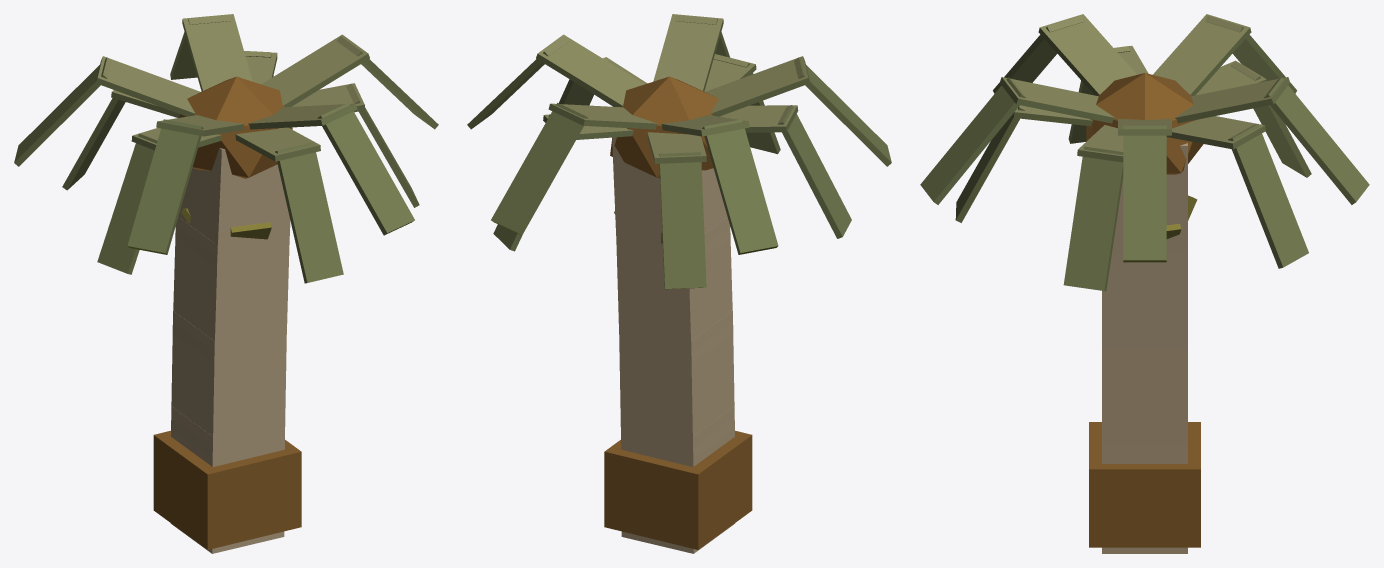
File: SM_Palmera_v2_LOD0.fbx
3 renders of one model, left to right at view 1: azimuth 30°, elevation 25°; view 2: azimuth 150°, elevation 25°; view 3: azimuth 270°, elevation 25°, orthographic. The views are drawn at different scales.
Parts seen in each view (by area): view 1: SM_urbano_v2_LOD0; view 2: SM_urbano_v2_LOD0; view 3: SM_urbano_v2_LOD0.
Boxes of the visible parts, x1,y1,x2,y2 form: SM_urbano_v2_LOD0: (14,14,438,553); SM_urbano_v2_LOD0: (467,14,891,553); SM_urbano_v2_LOD0: (920,14,1369,553).
Size of the model in its own units: 3.96 by 4.83 by 4.17.
